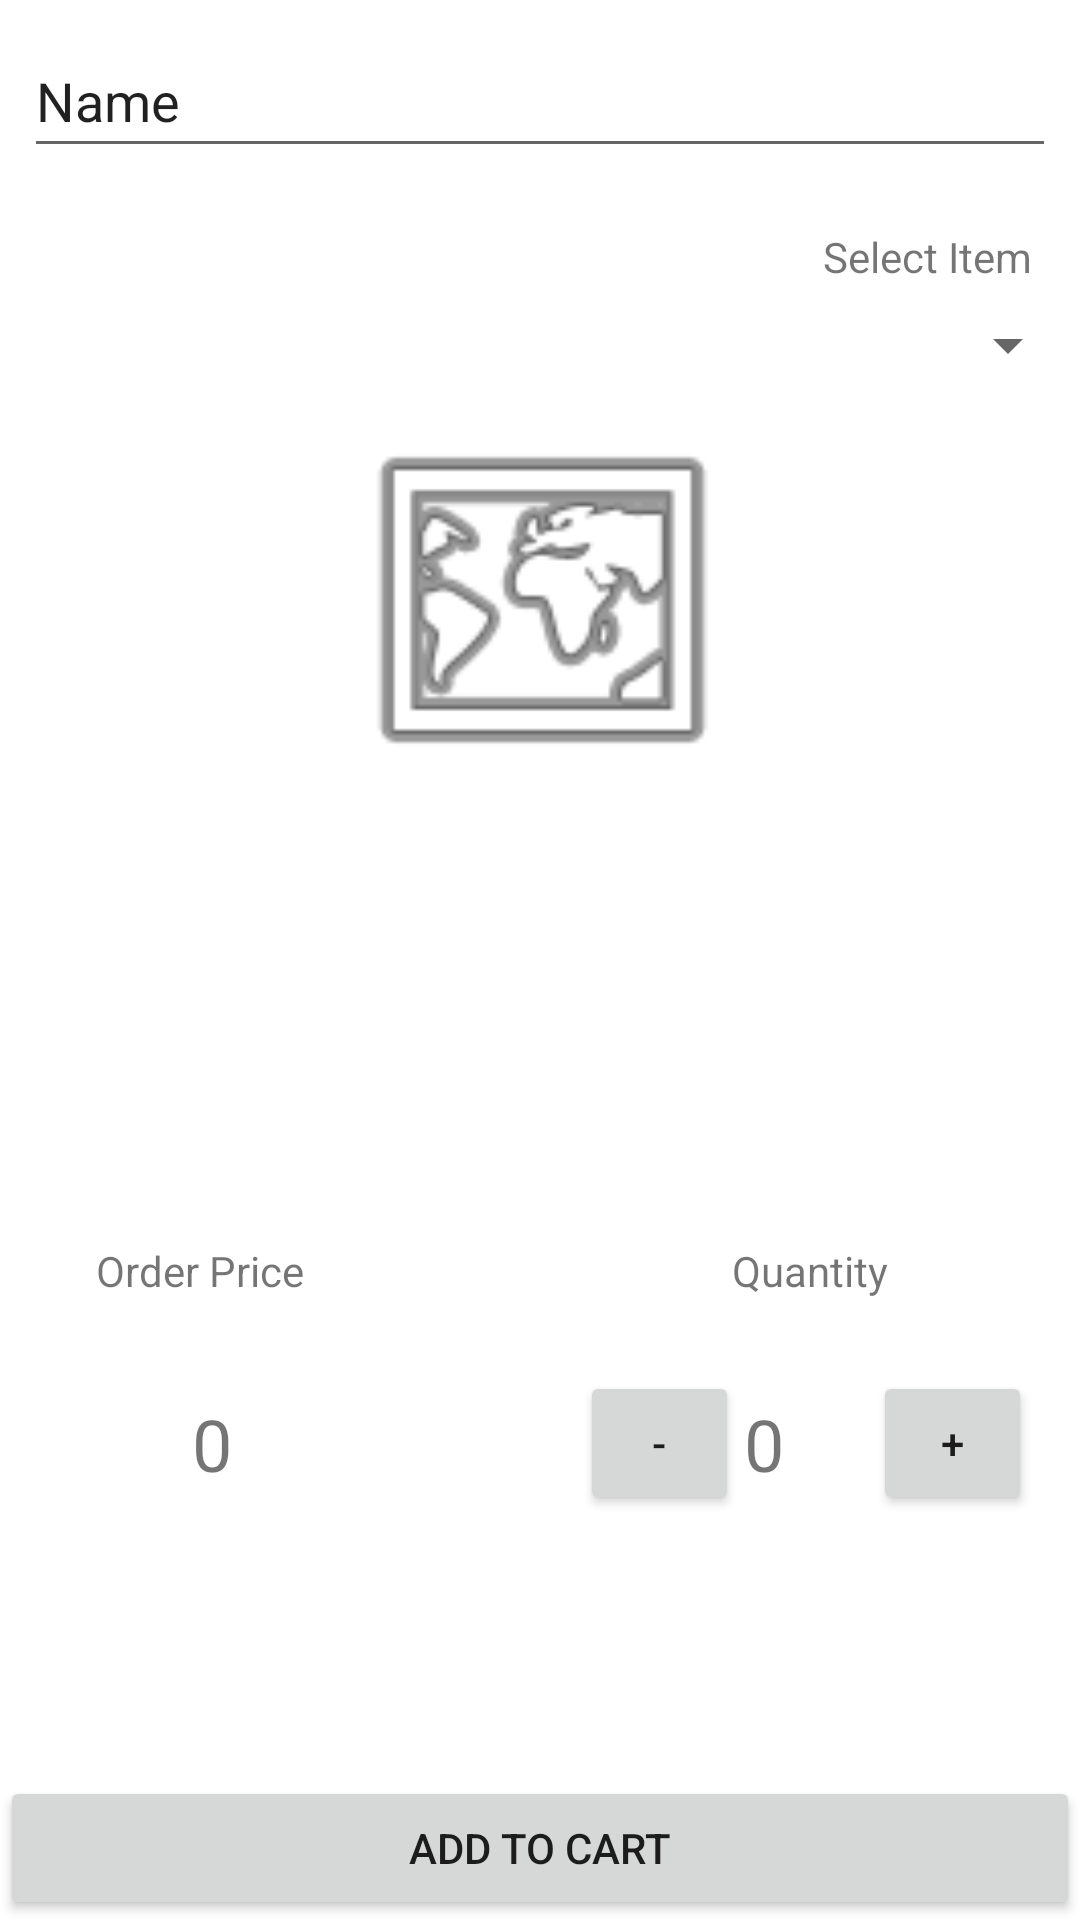

Named icons in this screenshot (1080 × 1920) and their centers, (x,y):
mapmode: (542,600)
